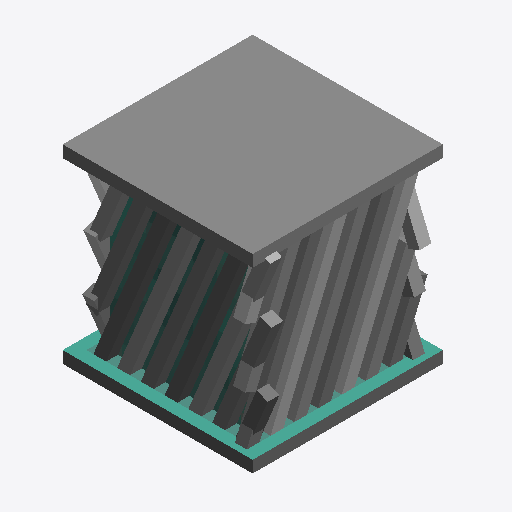
Isometric view (azimuth 45°, elevation 35.3°) of a Minecraft model made of 39 cuboids, textured from the same repository.
Visible parts, largest first — element 2, element 1, element 26, element 27, element 33, element 25, element 3, element 39, element 13, element 9, element 11, element 5 (+12 smaller).
Boxes of the visible parts, box(x1,y1,x2,y2) form: element 2: box(63, 35, 442, 267); element 1: box(63, 330, 442, 472); element 26: box(287, 200, 370, 421); element 27: box(310, 186, 394, 407); element 33: box(334, 173, 417, 393); element 25: box(263, 214, 346, 435); element 3: box(110, 197, 249, 424); element 39: box(141, 241, 223, 388); element 13: box(94, 213, 176, 360); element 9: box(165, 254, 247, 402); element 11: box(117, 227, 200, 374); element 5: box(189, 251, 281, 415).
Bounding box in the file's own units: 16 × 16 × 16.56.